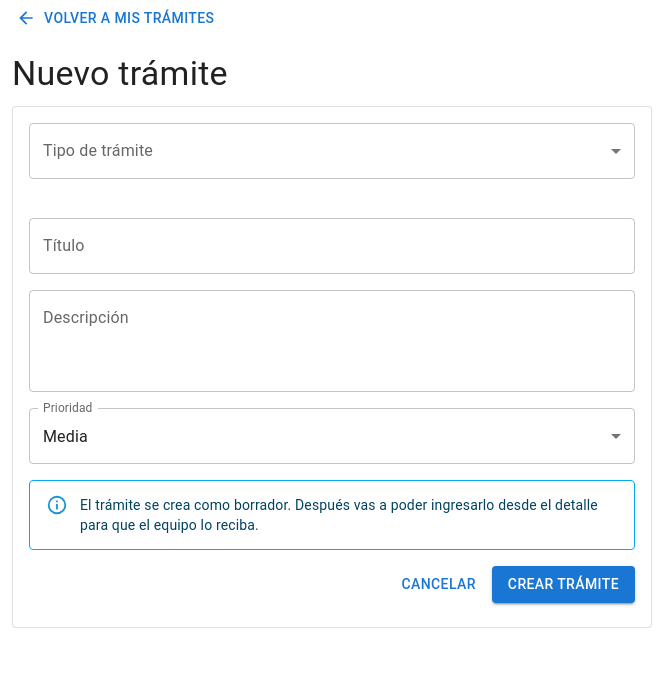
Test: Formulario de creación de trámite (externo) › valida los campos requeridos
What coordinates should you click on to do the following:
click the button "Crear trámite"
I would click on:
 (563, 585)
Its box is [492,566,635,603].
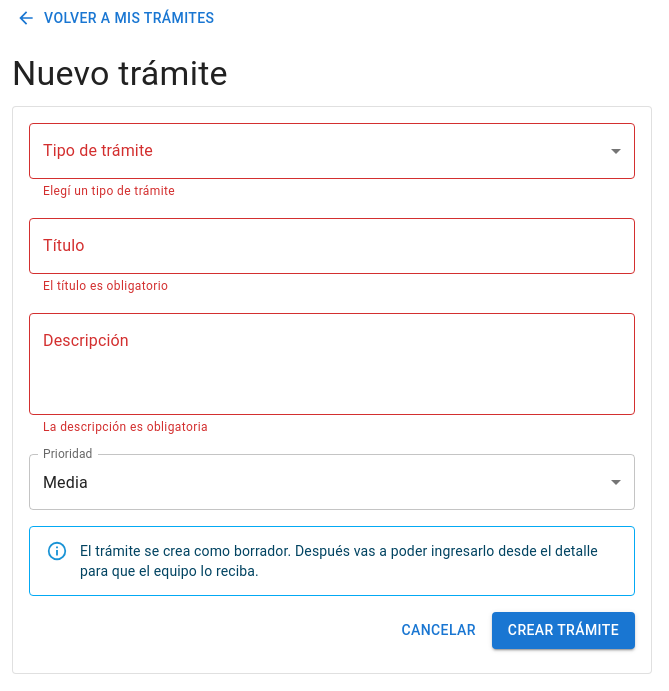
Expected: the text "El título es obligatorio" is shown, [43,279,168,293]
Expected: the text "La descripción es obligatoria" is shown, [43,420,208,434]
Expected: the text "Elegí un tipo de trámite" is shown, [43,184,175,198]
